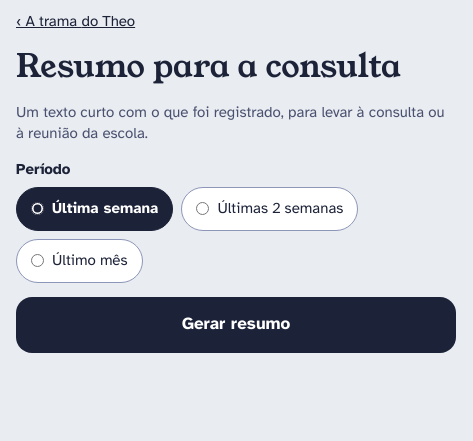
resposta 429 mostra a frase do limite
What coordinates should you click on to do the following:
click the button "Gerar resumo"
I would click on:
 (236, 325)
Its box is [16, 297, 456, 353].
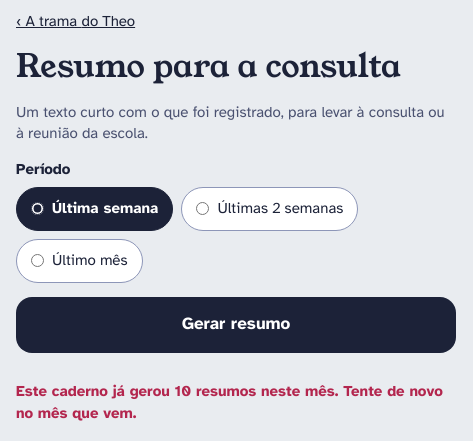
Check: the text "Este caderno já gerou 10 resumos neste mês. Tente de novo no mês que vem." is shown, box [16, 381, 456, 424]
